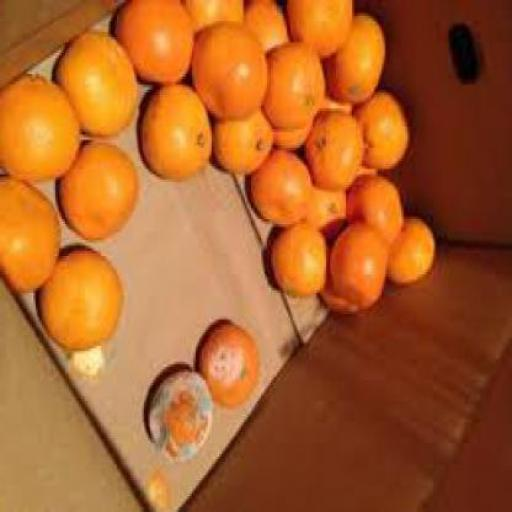biodegradable: (56, 29, 140, 135), (42, 242, 127, 346), (2, 71, 83, 180), (59, 137, 140, 241), (141, 78, 217, 180), (2, 172, 63, 290), (194, 21, 272, 113), (112, 0, 197, 80), (146, 364, 213, 457), (263, 37, 328, 127), (332, 8, 388, 100), (199, 323, 261, 406), (251, 145, 316, 222), (334, 222, 390, 304), (272, 222, 332, 296), (311, 104, 367, 182), (215, 105, 277, 174), (348, 174, 403, 246), (358, 92, 409, 164), (290, 0, 354, 53), (390, 214, 436, 282), (322, 256, 370, 311), (304, 182, 352, 230), (247, 0, 291, 48), (184, 0, 248, 25), (140, 465, 176, 509), (70, 340, 106, 375), (277, 116, 316, 145)
cardboard: (261, 314, 511, 509), (2, 377, 138, 509), (437, 0, 511, 236), (124, 224, 271, 322), (106, 340, 151, 486), (437, 240, 511, 315), (140, 178, 251, 226), (385, 0, 437, 90), (175, 456, 259, 510), (116, 325, 200, 367), (409, 93, 435, 213), (211, 407, 263, 456), (2, 344, 69, 380), (2, 290, 37, 344), (385, 279, 437, 314), (271, 296, 322, 316), (358, 0, 390, 10), (398, 163, 408, 188), (375, 298, 388, 311)
